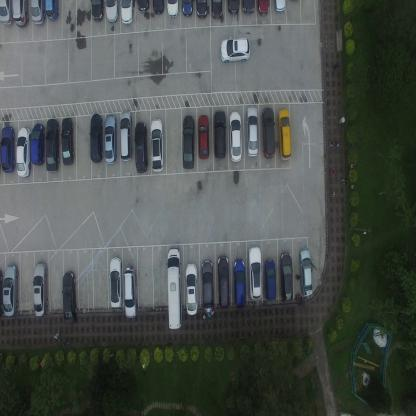car: (166, 247, 182, 330), (32, 261, 49, 318), (2, 262, 19, 318), (220, 36, 251, 65), (61, 270, 77, 326), (247, 245, 262, 302), (278, 251, 294, 304), (277, 107, 292, 162), (16, 125, 31, 179), (0, 124, 16, 174), (261, 106, 276, 159), (228, 111, 243, 163), (181, 115, 195, 170), (150, 118, 164, 173), (134, 120, 148, 174), (184, 262, 198, 316), (46, 116, 59, 173), (103, 112, 117, 164), (89, 112, 103, 164), (124, 266, 138, 318), (109, 256, 123, 308), (217, 255, 230, 310), (299, 246, 313, 297), (246, 104, 259, 158), (119, 110, 132, 162), (201, 258, 213, 314), (61, 115, 74, 166), (233, 259, 246, 310), (30, 122, 45, 166), (214, 108, 226, 160), (11, 0, 30, 29), (264, 257, 276, 302), (198, 113, 209, 160), (30, 0, 45, 28), (120, 0, 134, 26), (0, 0, 13, 28), (105, 0, 119, 25), (90, 0, 104, 23), (44, 0, 58, 23), (181, 0, 194, 19), (211, 0, 222, 21), (196, 0, 208, 19), (166, 0, 178, 19), (256, 0, 270, 16), (241, 0, 255, 15), (152, 0, 165, 16), (274, 0, 286, 15), (227, 0, 239, 15), (136, 0, 149, 12)
